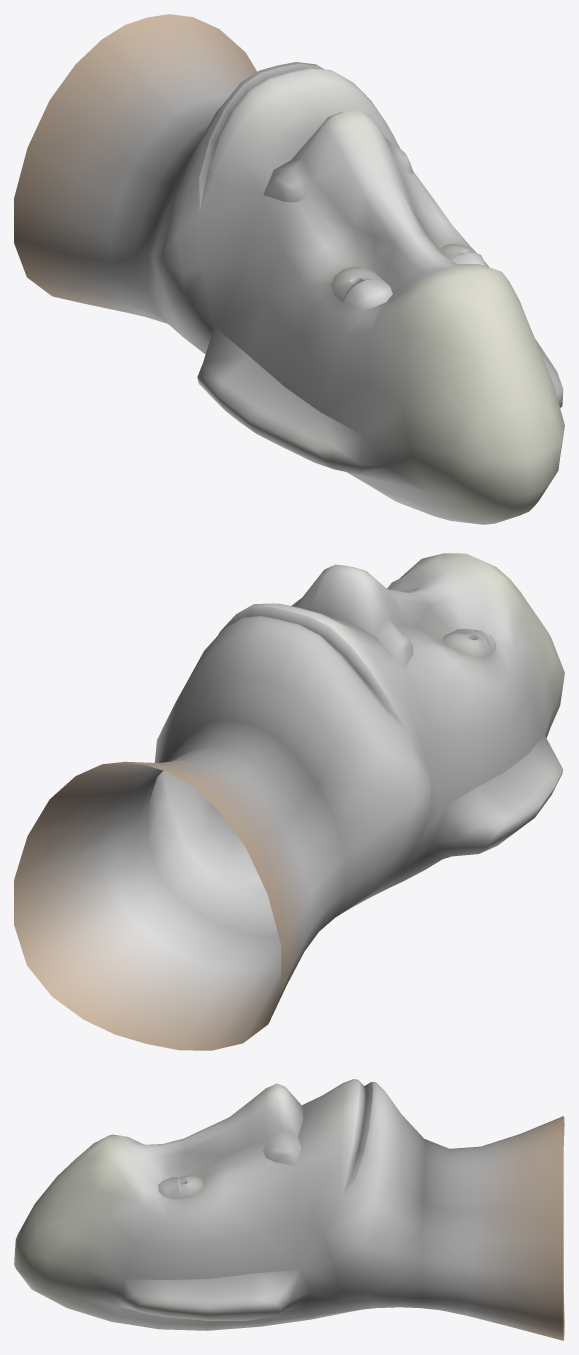
The model's file is EasterIsland_highres.glb.
3 renders of one model, top to bottom at view 1: azimuth 30°, elevation 25°; view 2: azimuth 150°, elevation 25°; view 3: azimuth 270°, elevation 25°, orthographic. The views are drawn at different scales.
Parts seen in each view (by area): view 1: MeshNode_0; view 2: MeshNode_0; view 3: MeshNode_0.
Part boxes in pixels (<box>): MeshNode_0: <box>14,14,564,524</box>; MeshNode_0: <box>14,553,564,1050</box>; MeshNode_0: <box>14,1079,564,1340</box>.
Size of the model in its own units: 14.53 by 15.03 by 31.62.
